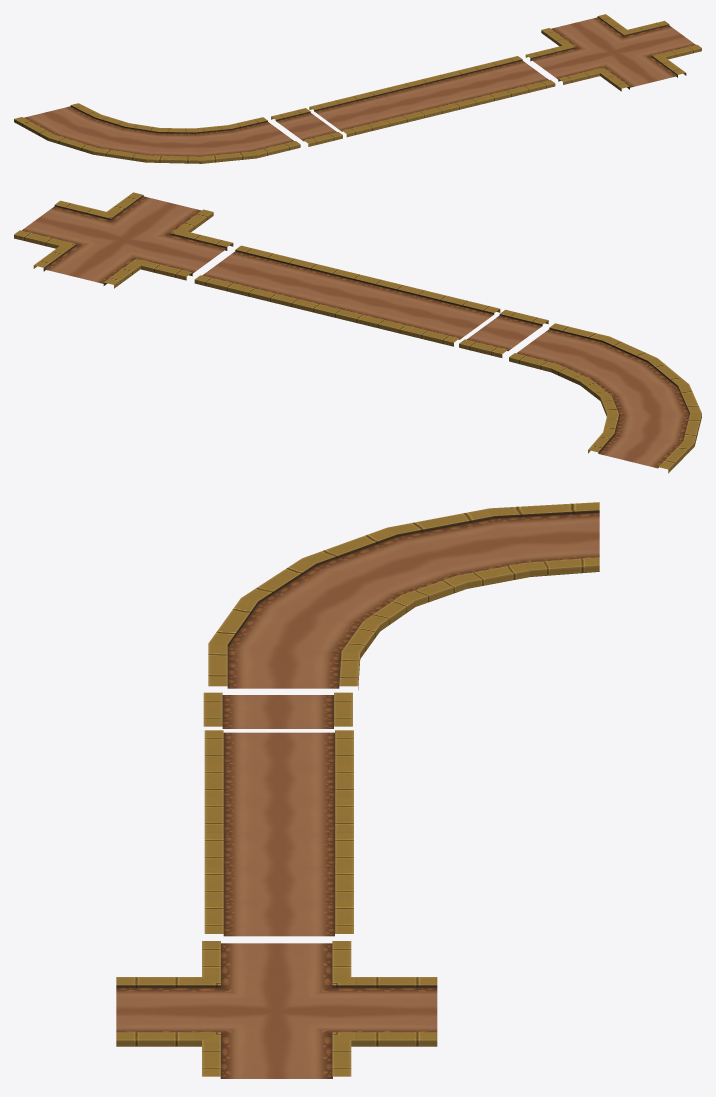
Rendered from Road.FBX.
3 views of the same model, one above another, from view 1: azimuth 30°, elevation 25°; view 2: azimuth 150°, elevation 25°; view 3: azimuth 270°, elevation 25° (orthographic). The views are drawn at different scales.
Visible parts, largest first — view 1: Road_Piece_01, Road_Piece_03, Road_Piece_04, Road_Piece_02; view 2: Road_Piece_01, Road_Piece_03, Road_Piece_04, Road_Piece_02; view 3: Road_Piece_01, Road_Piece_04, Road_Piece_03, Road_Piece_02.
Boxes of the visible parts, box(x1,y1,x2,y2) form: Road_Piece_01: box(14, 103, 300, 163); Road_Piece_03: box(309, 56, 555, 137); Road_Piece_04: box(525, 14, 701, 91); Road_Piece_02: box(271, 108, 342, 146); Road_Piece_01: box(509, 323, 701, 473); Road_Piece_03: box(194, 245, 500, 346); Road_Piece_04: box(14, 192, 233, 288); Road_Piece_02: box(459, 309, 548, 357); Road_Piece_01: box(208, 502, 599, 689); Road_Piece_04: box(116, 941, 437, 1078); Road_Piece_03: box(204, 730, 353, 936); Road_Piece_02: box(203, 692, 352, 728).
Size of the model in its own units: 1485 by 8.03 by 528.
